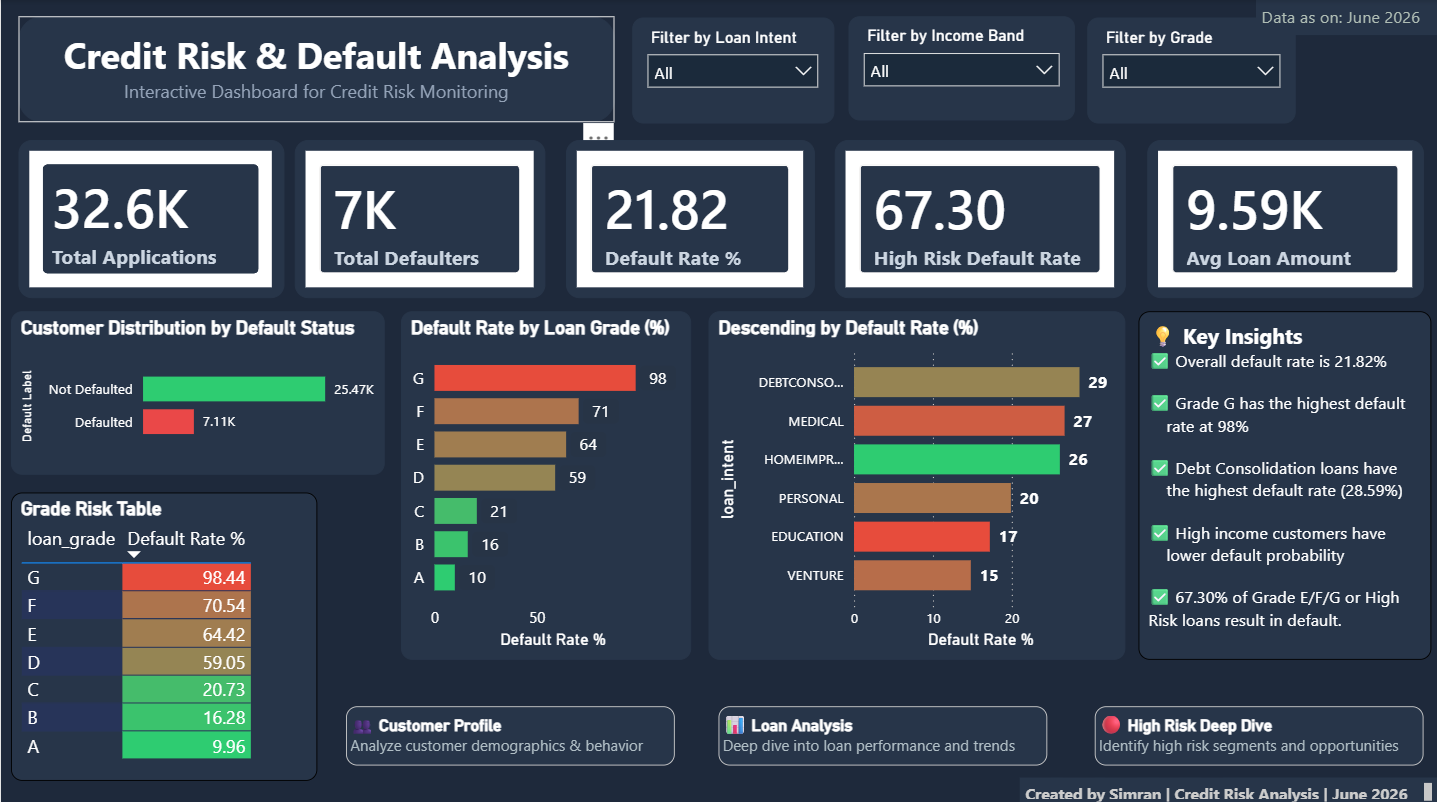

The dashboard page shown, as its layout file describes it:
{"tool":"powerbi","page":{"name":"Risk Overview","canvas":[1280,720],"ordinal":0},"visuals":[{"type":"textbox","box":[15.7,14.5,530.8,94.1],"z":0},{"type":"cardVisual","fields":{"Data":["credit_risk.Total Applications"]},"box":[15.7,124.3,236.5,141.2],"z":1000},{"type":"cardVisual","fields":{"Data":["credit_risk.Total Defaulters"]},"box":[261.8,124.3,223.2,141.2],"z":2000},{"type":"cardVisual","fields":{"Data":["credit_risk.Default Rate %"]},"box":[503.1,124.3,222,141.2],"z":3000},{"type":"cardVisual","fields":{"Data":["credit_risk.Avg Loan Amount"]},"box":[1020.6,124.3,246.1,141.2],"z":4000},{"type":"clusteredBarChart","title":"Default Rate by Loan Grade (%)","fields":{"Category":["credit_risk.loan_grade"],"Y":["credit_risk.Default Rate %"]},"box":[355.9,277.5,258.2,310.1],"z":5000},{"type":"barChart","title":"Customer Distribution by Default Status","fields":{"Category":["credit_risk.default_label"],"Y":["credit_risk.Total Applications"]},"box":[8.4,277.5,333,146],"z":6000},{"type":"cardVisual","fields":{"Data":["credit_risk.High Risk Default Rate"]},"box":[742,124.3,259.4,141.2],"z":7000},{"type":"clusteredBarChart","title":"Descending by Default Rate  (%)","fields":{"Category":["credit_risk.loan_intent"],"Y":["credit_risk.Default Rate %"]},"box":[629.8,277.5,371.6,310.1],"z":8000},{"type":"slicer","title":"Filter by Grade","fields":{"Values":["credit_risk.loan_grade"]},"box":[967.6,15.7,185.8,94.1],"z":9000},{"type":"slicer","title":"Filter by Grade","fields":{"Values":["credit_risk.income_band"]},"box":[755.2,14.5,201.5,92.9],"z":10000},{"type":"textbox","box":[1117.2,0,162.9,31.4],"z":11000},{"type":"tableEx","title":"Grade Risk Table","fields":{"Values":["credit_risk.loan_grade","credit_risk.Default Rate %"]},"box":[8.4,439.1,253.4,257],"z":12000},{"type":"textbox","box":[1013.4,277.5,260.6,310.1],"z":13000},{"type":"slicer","title":"Filter by Grade","fields":{"Values":["credit_risk.loan_intent"]},"box":[562.2,15.7,179.8,94.1],"z":14000},{"type":"actionButton","title":"👥 Customer Profile","box":[307.6,628.6,293.2,53.1],"z":15000},{"type":"actionButton","title":"📊 Loan Analysis","box":[639.4,628.6,293.2,53.1],"z":16000},{"type":"actionButton","title":"🔴 High Risk Deep Dive","box":[973.6,628.6,293.2,53.1],"z":17000},{"type":"textbox","box":[815.1,691.9,465.1,27.9],"z":18000}]}

Visuals, with their boxes in screenshot pixels (x1, y1, x2, y2), scaled from the page's 1280x720 canvas onto the 1437x802 screenshot:
textbox: detection(18, 16, 614, 121)
cardVisual - credit_risk.Total Applications: detection(18, 138, 283, 296)
cardVisual - credit_risk.Total Defaulters: detection(294, 138, 544, 296)
cardVisual - credit_risk.Default Rate %: detection(565, 138, 814, 296)
cardVisual - credit_risk.Avg Loan Amount: detection(1146, 138, 1422, 296)
"Default Rate by Loan Grade (%)" clusteredBarChart: detection(400, 309, 689, 655)
"Customer Distribution by Default Status" barChart: detection(9, 309, 383, 472)
cardVisual - credit_risk.High Risk Default Rate: detection(833, 138, 1124, 296)
"Descending by Default Rate  (%)" clusteredBarChart: detection(707, 309, 1124, 655)
"Filter by Grade" slicer: detection(1086, 17, 1295, 122)
"Filter by Grade" slicer: detection(848, 16, 1074, 120)
textbox: detection(1254, 0, 1436, 35)
"Grade Risk Table" tableEx: detection(9, 489, 294, 775)
textbox: detection(1138, 309, 1430, 655)
"Filter by Grade" slicer: detection(631, 17, 833, 122)
"👥 Customer Profile" actionButton: detection(345, 700, 674, 759)
"📊 Loan Analysis" actionButton: detection(718, 700, 1047, 759)
"🔴 High Risk Deep Dive" actionButton: detection(1093, 700, 1422, 759)
textbox: detection(915, 771, 1436, 801)
